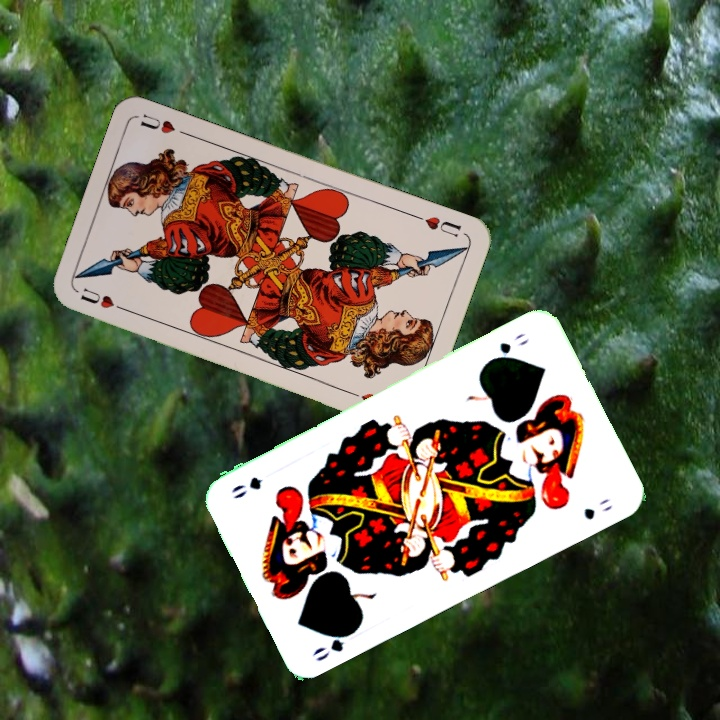GO: (308, 624, 361, 664), (484, 328, 531, 365)
HU: (76, 283, 131, 315), (410, 210, 464, 240)
